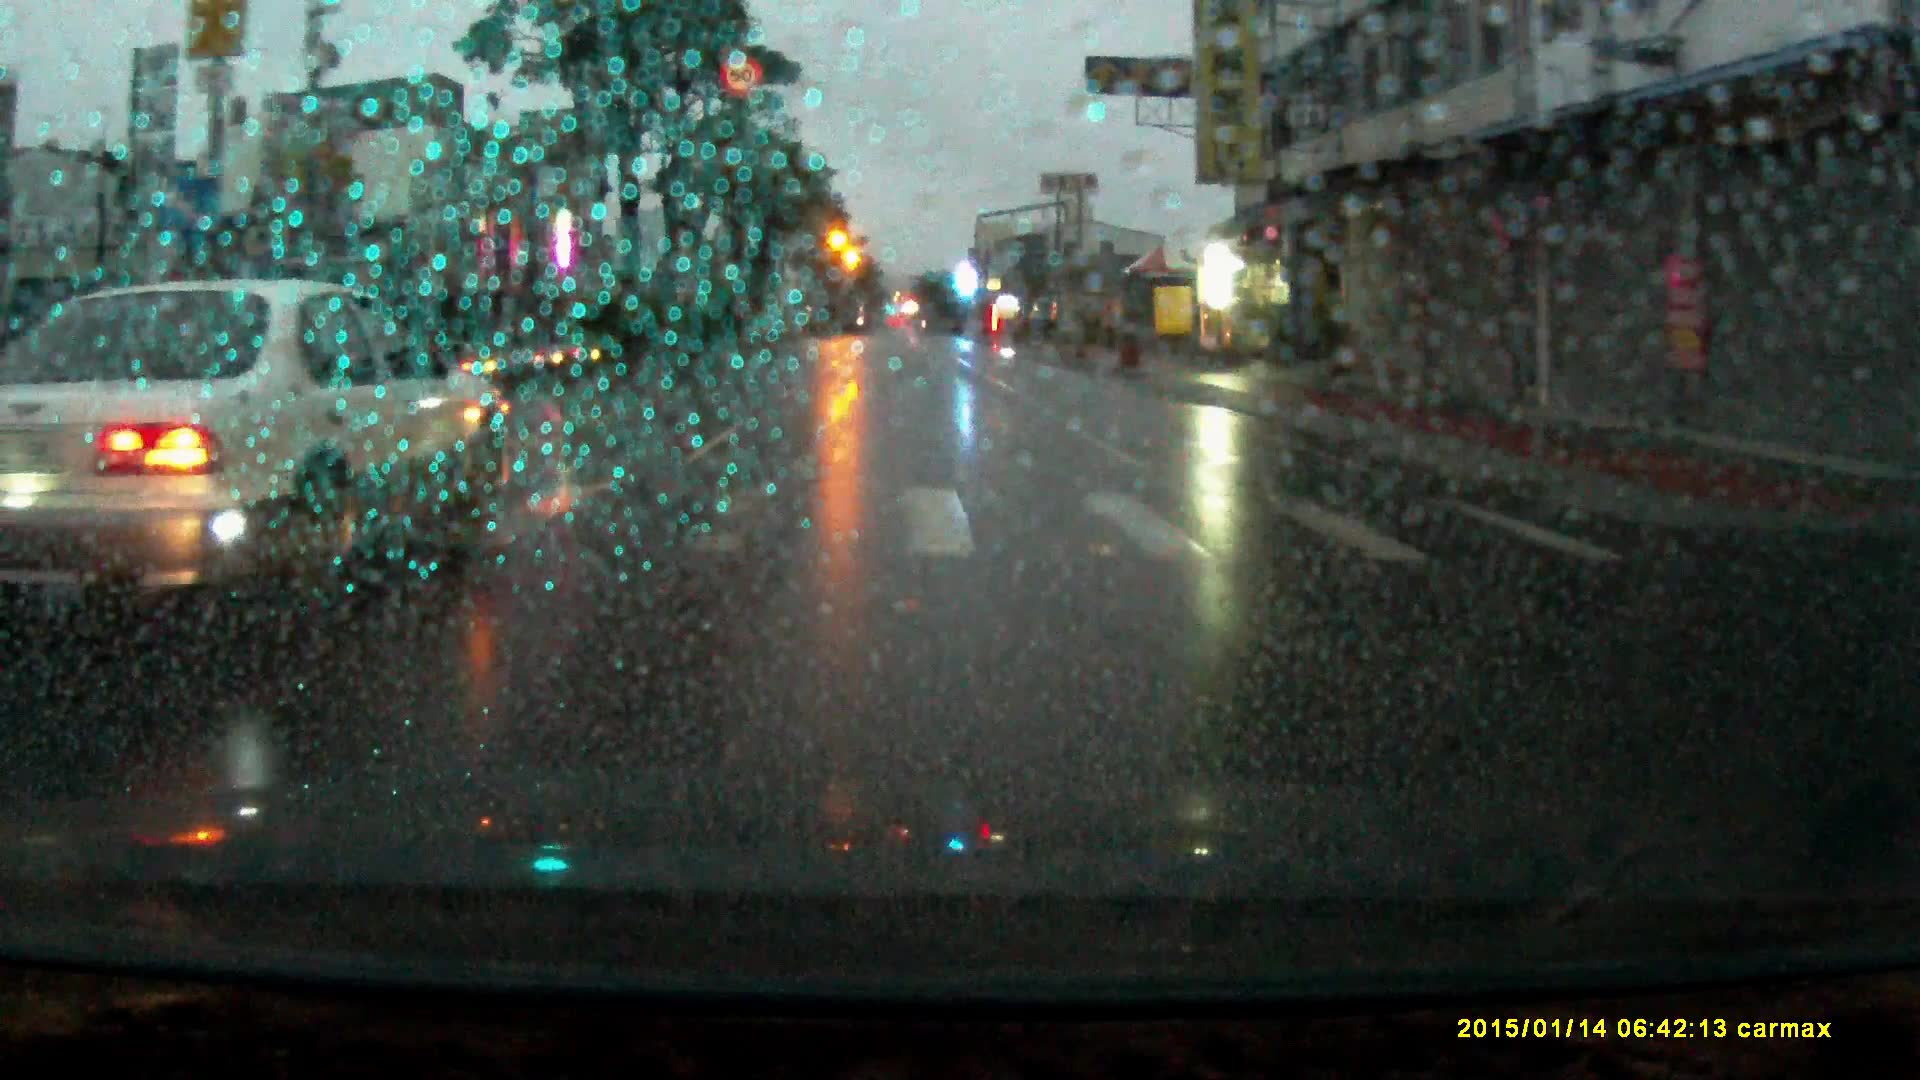vehicle: (1, 282, 522, 629)
